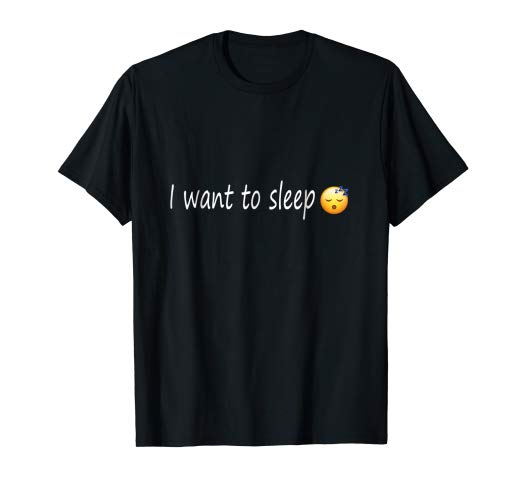T-Shirt: (52, 25, 478, 455)
